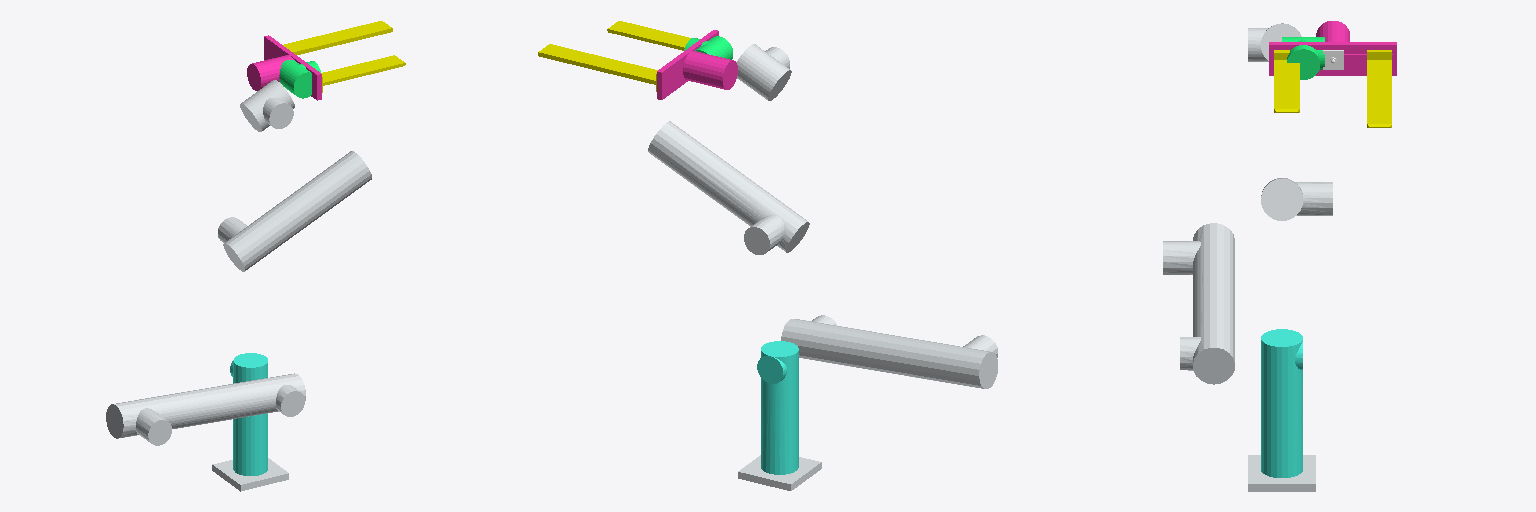
The robot description file, URDF, robot "arm_description":
<?xml version="1.0" encoding="utf-8"?>
<!-- This URDF was automatically created by SolidWorks to URDF Exporter! Originally created by Stephen Brawner (brawner@gmail.com) 
     Commit Version: 1.6.0-4-g7f85cfe  Build Version: 1.6.7995.38578
     For more information, please see http://wiki.ros.org/sw_urdf_exporter -->
<robot
  name="arm_description">
  <link
    name="base_link">
    <inertial>
      <origin
        xyz="1.1789E-36 -3.269E-20 0.0049846"
        rpy="0 0 0" />
      <mass
        value="0.17174" />
      <inertia
        ixx="9.3584E-05"
        ixy="-3.2901E-39"
        ixz="-8.13E-40"
        iyy="9.3584E-05"
        iyz="2.3703E-23"
        izz="0.00018431" />
    </inertial>
    <visual>
      <origin
        xyz="0 0 0"
        rpy="0 0 0" />
      <geometry>
        <mesh
          filename="package://arm_description/meshes/base_link.STL" />
      </geometry>
      <material
        name="">
        <color
          rgba="0.89804 0.91765 0.92941 1" />
      </material>
    </visual>
    <collision>
      <origin
        xyz="0 0 0"
        rpy="0 0 0" />
      <geometry>
        <mesh
          filename="package://arm_description/meshes/base_link.STL" />
      </geometry>
    </collision>
  </link>
  <link
    name="shoulder_link">
    <inertial>
      <origin
        xyz="2.844E-09 -0.0018983 0.088853"
        rpy="0 0 0" />
      <mass
        value="0.96068" />
      <inertia
        ixx="0.0026125"
        ixy="-5.235E-10"
        ixz="-2.5725E-10"
        iyy="0.002564"
        iyz="0.00011151"
        izz="0.0003434" />
    </inertial>
    <visual>
      <origin
        xyz="0 0 0"
        rpy="0 0 0" />
      <geometry>
        <mesh
          filename="package://arm_description/meshes/shoulder_link.STL" />
      </geometry>
      <material
        name="">
        <color
          rgba="0.31765 1 0.91765 1" />
      </material>
    </visual>
    <collision>
      <origin
        xyz="0 0 0"
        rpy="0 0 0" />
      <geometry>
        <mesh
          filename="package://arm_description/meshes/shoulder_link.STL" />
      </geometry>
    </collision>
  </link>
  <joint
    name="base_joint"
    type="revolute">
    <origin
      xyz="0 0 0.01"
      rpy="0 0 0" />
    <parent
      link="base_link" />
    <child
      link="shoulder_link" />
    <axis
      xyz="0 0 1" />
    <limit
      lower="-1.57"
      upper="1.57"
      effort="0"
      velocity="0" />
  </joint>
  <link
    name="arm_link_1">
    <inertial>
      <origin
        xyz="3.99321170061077E-07 0.00243945434428174 0.10000016404977"
        rpy="0 0 0" />
      <mass
        value="1.49514311129629" />
      <inertia
        ixx="0.0092672086833684"
        ixy="-3.45316524239455E-08"
        ixz="2.128280625616E-08"
        iyy="0.00917221220256816"
        iyz="-8.41134008902218E-09"
        izz="0.000552274337038071" />
    </inertial>
    <visual>
      <origin
        xyz="0 0 0"
        rpy="0 0 0" />
      <geometry>
        <mesh
          filename="package://arm_description/meshes/arm_link_1.STL" />
      </geometry>
      <material
        name="">
        <color
          rgba="0.898039215686275 0.917647058823529 0.929411764705882 1" />
      </material>
    </visual>
    <collision>
      <origin
        xyz="0 0 0"
        rpy="0 0 0" />
      <geometry>
        <mesh
          filename="package://arm_description/meshes/arm_link_1.STL" />
      </geometry>
    </collision>
  </link>
  <joint
    name="shoulder_joint"
    type="revolute">
    <origin
      xyz="0 -0.08 0.15"
      rpy="0 0 0" />
    <parent
      link="shoulder_link" />
    <child
      link="arm_link_1" />
    <axis
      xyz="0 1 0" />
    <limit
      lower="-1.57"
      upper="1.57"
      effort="0"
      velocity="0" />
  </joint>
  <link
    name="arm_link_2">
    <inertial>
      <origin
        xyz="1.84935938307083E-07 -0.00142742297622724 0.0811160068194484"
        rpy="0 0 0" />
      <mass
        value="1.27771981813338" />
      <inertia
        ixx="0.00602979199459265"
        ixy="1.99665710014809E-09"
        ixz="3.61991807814648E-09"
        iyy="0.00598043834668597"
        iyz="-0.000147930160932861"
        izz="0.000443651831504686" />
    </inertial>
    <visual>
      <origin
        xyz="0 0 0"
        rpy="0 0 0" />
      <geometry>
        <mesh
          filename="package://arm_description/meshes/arm_link_2.STL" />
      </geometry>
      <material
        name="">
        <color
          rgba="0.898039215686275 0.917647058823529 0.929411764705882 1" />
      </material>
    </visual>
    <collision>
      <origin
        xyz="0 0 0"
        rpy="0 0 0" />
      <geometry>
        <mesh
          filename="package://arm_description/meshes/arm_link_2.STL" />
      </geometry>
    </collision>
  </link>
  <joint
    name="arm_joint_12"
    type="revolute">
    <origin
      xyz="0 0.08 0.2"
      rpy="0 0 0" />
    <parent
      link="arm_link_1" />
    <child
      link="arm_link_2" />
    <axis
      xyz="0 1 0" />
    <limit
      lower="-1.57"
      upper="1.57"
      effort="0"
      velocity="0" />
  </joint>
  <link
    name="wrist_link_1">
    <inertial>
      <origin
        xyz="0.00484427832761932 -1.19442283489963E-08 0.0299999925216045"
        rpy="0 0 0" />
      <mass
        value="0.376466363968247" />
      <inertia
        ixx="0.00015732940102775"
        ixy="2.42567535480483E-10"
        ixz="9.20593423415752E-11"
        iyy="0.00020045101820395"
        iyz="1.04465083118944E-10"
        izz="0.00015578083797655" />
    </inertial>
    <visual>
      <origin
        xyz="0 0 0"
        rpy="0 0 0" />
      <geometry>
        <mesh
          filename="package://arm_description/meshes/wrist_link_1.STL" />
      </geometry>
      <material
        name="">
        <color
          rgba="0.898039215686275 0.917647058823529 0.929411764705882 1" />
      </material>
    </visual>
    <collision>
      <origin
        xyz="0 0 0"
        rpy="0 0 0" />
      <geometry>
        <mesh
          filename="package://arm_description/meshes/wrist_link_1.STL" />
      </geometry>
    </collision>
  </link>
  <joint
    name="arm_wrist_joint"
    type="revolute">
    <origin
      xyz="0 0 0.2"
      rpy="0 0 0" />
    <parent
      link="arm_link_2" />
    <child
      link="wrist_link_1" />
    <axis
      xyz="0 0 1" />
    <limit
      lower="-1.57"
      upper="1.57"
      effort="0"
      velocity="0" />
  </joint>
  <link
    name="wrist_link_2">
    <inertial>
      <origin
        xyz="-0.025 0.00476010124384936 -5.3487070328373E-10"
        rpy="0 0 0" />
      <mass
        value="0.213833773430547" />
      <inertia
        ixx="5.90471340191189E-05"
        ixy="-3.62696963816373E-20"
        ixz="5.85438282709314E-12"
        iyy="6.19132185170091E-05"
        iyz="1.83189050496876E-12"
        izz="7.58889080283275E-05" />
    </inertial>
    <visual>
      <origin
        xyz="0 0 0"
        rpy="0 0 0" />
      <geometry>
        <mesh
          filename="package://arm_description/meshes/wrist_link_2.STL" />
      </geometry>
      <material
        name="">
        <color
          rgba="0.176470588235294 1 0.529411764705882 1" />
      </material>
    </visual>
    <collision>
      <origin
        xyz="0 0 0"
        rpy="0 0 0" />
      <geometry>
        <mesh
          filename="package://arm_description/meshes/wrist_link_2.STL" />
      </geometry>
    </collision>
  </link>
  <joint
    name="wrist_joint_12"
    type="revolute">
    <origin
      xyz="0.09 0 0.03"
      rpy="0 0 0" />
    <parent
      link="wrist_link_1" />
    <child
      link="wrist_link_2" />
    <axis
      xyz="1 0 0" />
    <limit
      lower="-1.57"
      upper="1.57"
      effort="0"
      velocity="0" />
  </joint>
  <link
    name="wrist_link_3">
    <inertial>
      <origin
        xyz="0.0379528150536633 -0.00306208343475713 1.84945643244561E-08"
        rpy="0 0 0" />
      <mass
        value="0.332413101297219" />
      <inertia
        ixx="0.000271281133244879"
        ixy="-1.31842072075757E-05"
        ixz="-4.53971642475216E-12"
        iyy="0.000181807242336193"
        iyz="-7.12639945244701E-12"
        izz="0.000374581320728992" />
    </inertial>
    <visual>
      <origin
        xyz="-0.025 0 0"
        rpy="0 0 0" />
      <geometry>
        <mesh
          filename="package://arm_description/meshes/wrist_link_3.STL" />
      </geometry>
      <material
        name="">
        <color
          rgba="1 0.270588235294118 0.733333333333333 1" />
      </material>
    </visual>
    <collision>
      <origin
        xyz="-0.025 0 0"
        rpy="0 0 0" />
      <geometry>
        <mesh
          filename="package://arm_description/meshes/wrist_link_3.STL" />
      </geometry>
    </collision>
  </link>
  <joint
    name="wrist_joint_23"
    type="revolute">
    <origin
      xyz="-0.025 0.06 0"
      rpy="0 0 0" />
    <parent
      link="wrist_link_2" />
    <child
      link="wrist_link_3" />
    <axis
      xyz="0 1 0" />
    <limit
      lower="-1.57"
      upper="1.57"
      effort="0"
      velocity="0" />
  </joint>
  <link
    name="camera_arm_link">
    <inertial>
      <origin
        xyz="0.00017826 0 0"
        rpy="0 0 0" />
      <mass
        value="0.0065484" />
      <inertia
        ixx="6.6534E-07"
        ixy="-7.307E-23"
        ixz="8.7818E-23"
        iyy="3.9363E-07"
        iyz="3.4427E-18"
        izz="3.9363E-07" />
    </inertial>
    <visual>
      <origin
        xyz="0 0 0"
        rpy="0 0 0" />
      <geometry>
        <mesh
          filename="package://arm_description/meshes/camera_arm_link.STL" />
      </geometry>
      <material
        name="">
        <color
          rgba="1 1 1 1" />
      </material>
    </visual>
    <collision>
      <origin
        xyz="0 0 0"
        rpy="0 0 0" />
      <geometry>
        <mesh
          filename="package://arm_description/meshes/camera_arm_link.STL" />
      </geometry>
    </collision>
  </link>
  <joint
    name="camera_arm_joint"
    type="fixed">
    <origin
      xyz="0.0380000000000002 0 0"
      rpy="0 0 0" />
    <parent
      link="wrist_link_3" />
    <child
      link="camera_arm_link" />
    <axis
      xyz="0 0 0" />
  </joint>
  <link
    name="fork_link_L">
    <inertial>
      <origin
        xyz="0.0838063514804203 -2.86229373536173E-17 -1.11022302462516E-16"
        rpy="0 0 0" />
      <mass
        value="0.1017684" />
      <inertia
        ixx="9.16838352000001E-06"
        ixy="1.22288262139147E-19"
        ixz="-3.42386883861619E-20"
        iyy="0.000344761994950531"
        iyz="6.80000137608049E-22"
        izz="0.000350846390950531" />
    </inertial>
    <visual>
      <origin
        xyz="0 0 0"
        rpy="0 0 0" />
      <geometry>
        <mesh
          filename="package://arm_description/meshes/fork_link_L.STL" />
      </geometry>
      <material
        name="">
        <color
          rgba="0.941176470588235 0.929411764705882 0 1" />
      </material>
    </visual>
    <collision>
      <origin
        xyz="0 0 0"
        rpy="0 0 0" />
      <geometry>
        <mesh
          filename="package://arm_description/meshes/fork_link_L.STL" />
      </geometry>
    </collision>
  </link>
  <joint
    name="fork_joint_L"
    type="fixed">
    <origin
      xyz="0.039500000000001 -0.0544327264438395 0"
      rpy="0 0 0" />
    <parent
      link="wrist_link_3" />
    <child
      link="fork_link_L" />
    <axis
      xyz="0 0 0" />
  </joint>
  <link
    name="fork_link_R">
    <inertial>
      <origin
        xyz="0.083806 -8.3267E-17 1.1102E-16"
        rpy="0 0 0" />
      <mass
        value="0.10177" />
      <inertia
        ixx="9.1684E-06"
        ixy="3.1477E-19"
        ixz="-6.1321E-19"
        iyy="0.00034476"
        iyz="-1.8194E-21"
        izz="0.00035085" />
    </inertial>
    <visual>
      <origin
        xyz="0 0 0"
        rpy="0 0 0" />
      <geometry>
        <mesh
          filename="package://arm_description/meshes/fork_link_R.STL" />
      </geometry>
      <material
        name="">
        <color
          rgba="0.94118 0.92941 0 1" />
      </material>
    </visual>
    <collision>
      <origin
        xyz="0 0 0"
        rpy="0 0 0" />
      <geometry>
        <mesh
          filename="package://arm_description/meshes/fork_link_R.STL" />
      </geometry>
    </collision>
  </link>
  <joint
    name="fork_joint_R"
    type="fixed">
    <origin
      xyz="0.0395000000000003 0.0544327264438282 0"
      rpy="0 0 0" />
    <parent
      link="wrist_link_3" />
    <child
      link="fork_link_R" />
    <axis
      xyz="0 0 0" />
  </joint>
</robot>

--- Render facts (derived) ---
The picture shows the robot from 3 angles, left to right: view 1: azimuth 30°, elevation 25°; view 2: azimuth 150°, elevation 25°; view 3: azimuth 270°, elevation 25°; orthographic projection.
Robot: arm_description — 10 links, 9 joints (6 revolute, 3 fixed); root link base_link; default pose: every joint at zero.
Links seen in each view (by area): view 1: arm_link_1, arm_link_2, shoulder_link, wrist_link_1, wrist_link_3, fork_link_R, base_link, fork_link_L, wrist_link_2; view 2: arm_link_1, arm_link_2, shoulder_link, wrist_link_3, wrist_link_1, fork_link_R, base_link, fork_link_L, wrist_link_2; view 3: arm_link_1, shoulder_link, arm_link_2, wrist_link_3, fork_link_R, base_link, fork_link_L, wrist_link_1, wrist_link_2.
Link boxes in pixels (x1,y1,x2,y2): arm_link_1: (106,373,305,445); arm_link_2: (218,151,371,271); shoulder_link: (230,353,267,475); wrist_link_1: (240,80,294,131); wrist_link_3: (247,35,321,100); fork_link_R: (283,21,392,54); base_link: (212,458,288,491); fork_link_L: (321,55,405,92); wrist_link_2: (279,60,320,98); arm_link_1: (781,315,997,388); arm_link_2: (648,121,809,254); shoulder_link: (757,341,798,474); wrist_link_3: (657,30,737,99); wrist_link_1: (736,44,791,100); fork_link_R: (538,44,657,91); base_link: (738,455,821,490); fork_link_L: (607,21,690,50); wrist_link_2: (684,36,732,59); arm_link_1: (1163,223,1234,384); shoulder_link: (1261,329,1302,477); arm_link_2: (1261,178,1332,220); wrist_link_3: (1269,21,1396,75); fork_link_R: (1367,50,1391,127); base_link: (1248,455,1315,491); fork_link_L: (1274,50,1299,112); wrist_link_1: (1248,23,1301,61); wrist_link_2: (1282,37,1324,79).
Bounding box of the posed robot: 0.5641 × 0.275 × 0.61 m (x, y, z).
10 mesh visuals loaded from 10 distinct referenced files (10 binary STL).
